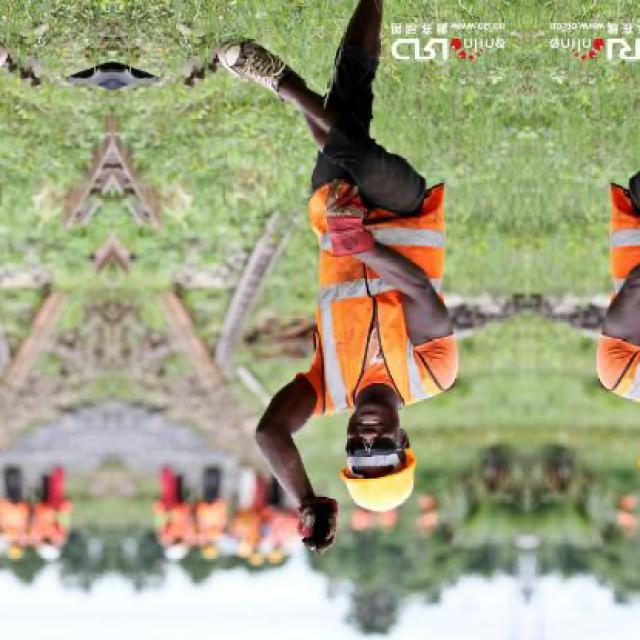con casco: (321, 318, 456, 512)
